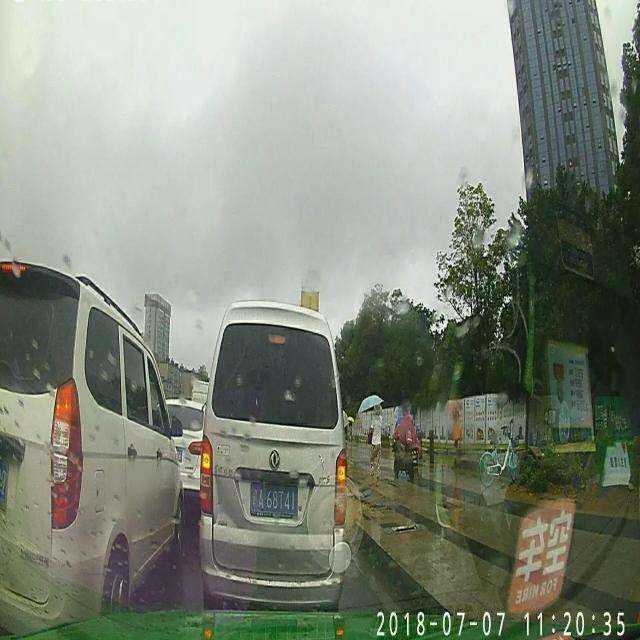car: (0, 260, 181, 622), (197, 300, 348, 614)
